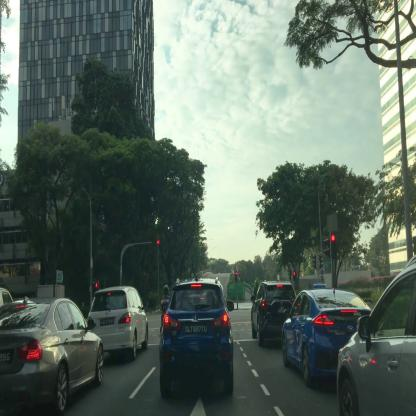red_traffic_light: (330, 233, 336, 258), (152, 239, 160, 244), (235, 271, 237, 282)
